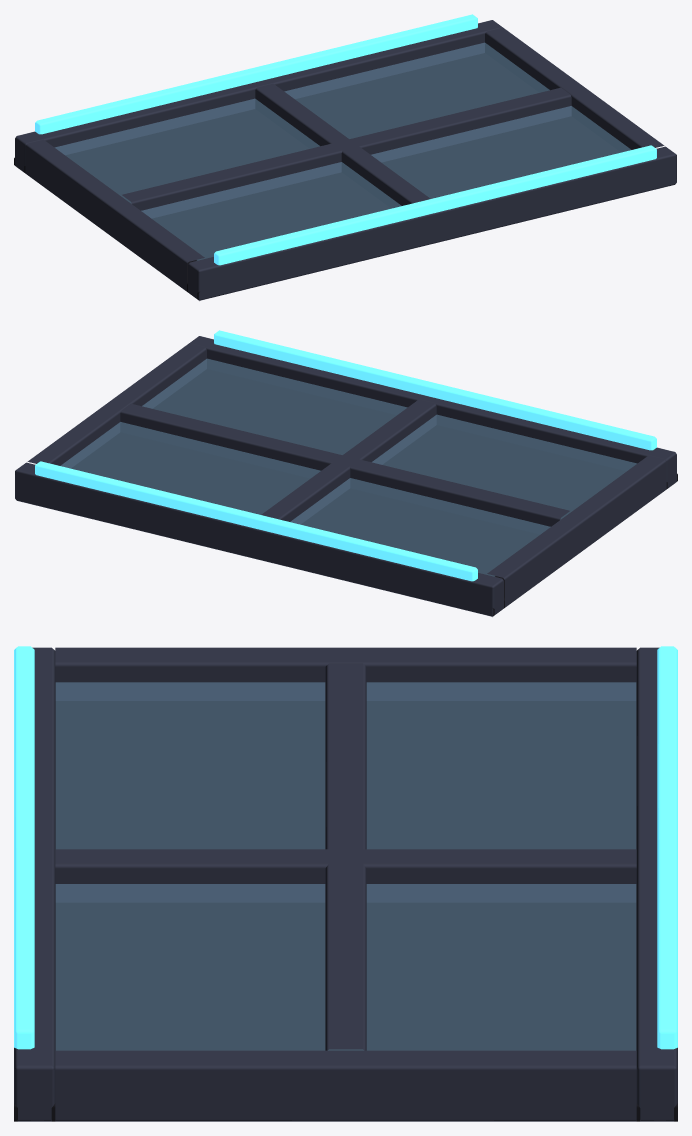
The model's file is roof.skylight.w3.d2.glb.
3 views of the same model, one above another, from view 1: azimuth 30°, elevation 25°; view 2: azimuth 150°, elevation 25°; view 3: azimuth 270°, elevation 25° (orthographic). The views are drawn at different scales.
Parts seen in each view (by area): view 1: roof.skylight.w3.d2; view 2: roof.skylight.w3.d2; view 3: roof.skylight.w3.d2.
Boxes of the visible parts, x1,y1,x2,y2 form: roof.skylight.w3.d2: (14,14,676,300); roof.skylight.w3.d2: (15,330,677,616); roof.skylight.w3.d2: (14,646,677,1121).
Bounding box in the file's own units: 3 × 0.2503 × 2.
